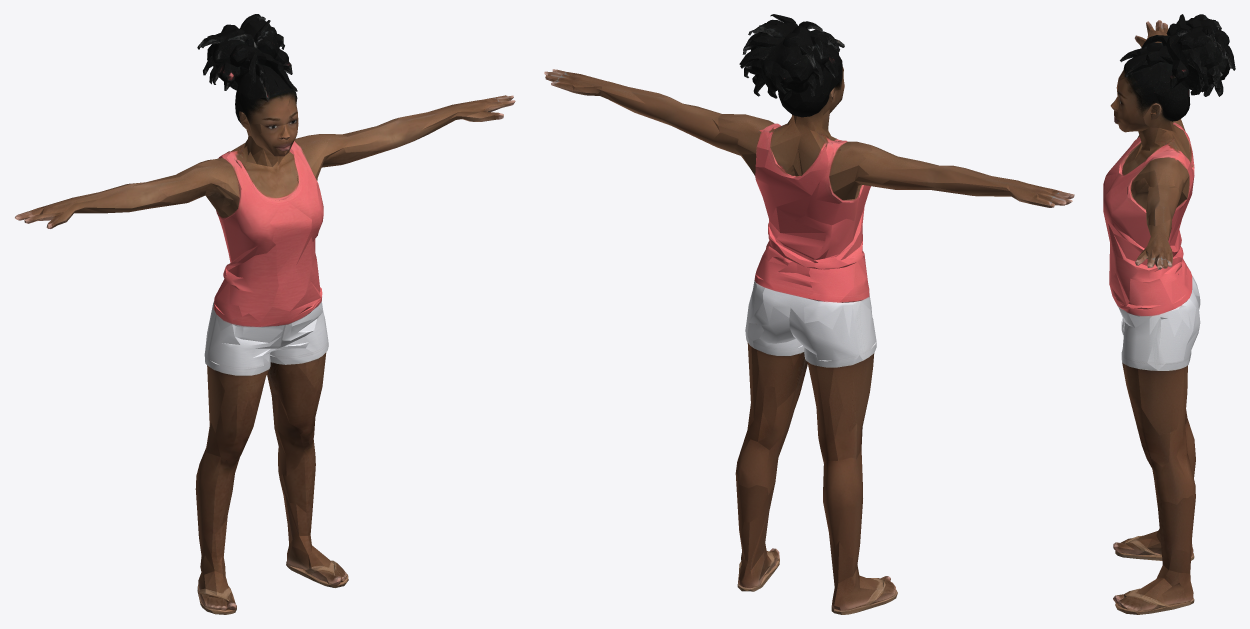
Rendered from image3d.glb.
3 views of the same model, side by side, from view 1: azimuth 30°, elevation 25°; view 2: azimuth 150°, elevation 25°; view 3: azimuth 270°, elevation 25° (orthographic). The views are drawn at different scales.
Bounding box in the file's own units: 1.8 × 1.9 × 0.4068.
Materials: 1 (1 with a texture image).
